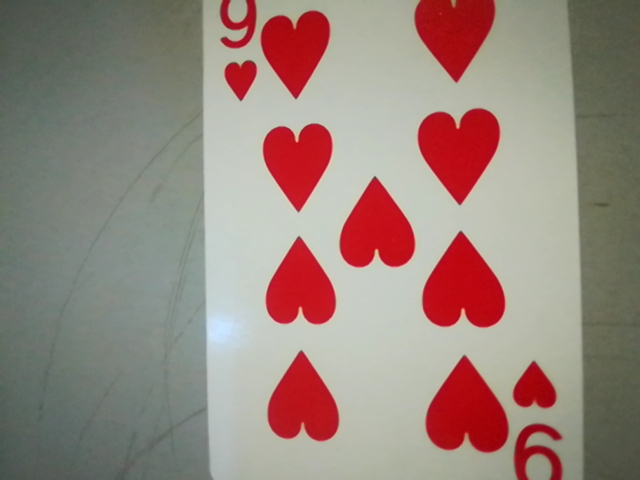hx 9: (207, 0, 266, 105)
